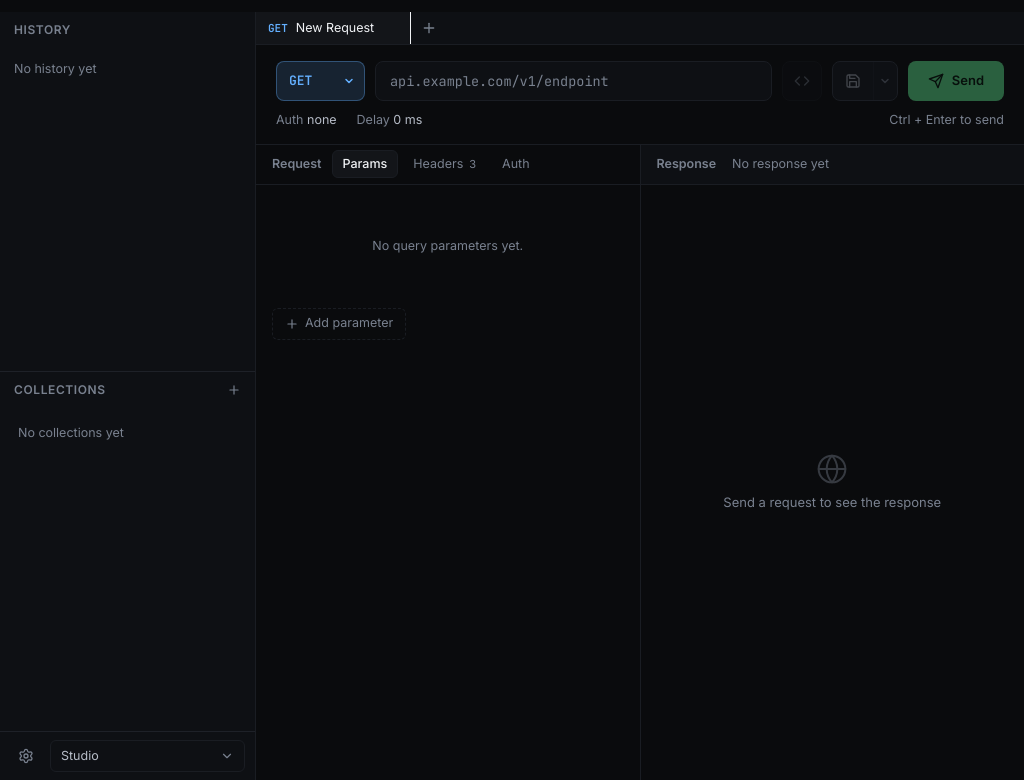
Scenario: composer menus › opens the Save request menu
Type "https://api.stripe.com/v1/charges" into the field named "Request URL" at (573, 81), box [390,71,757,91]
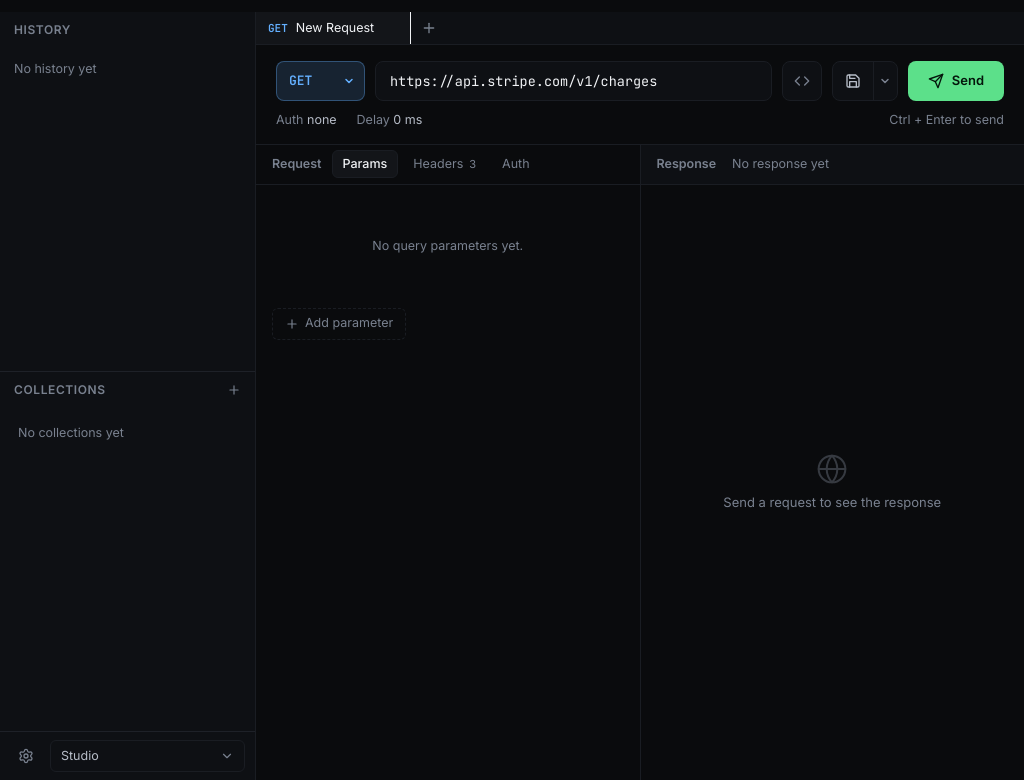
Click the button named "Save request" at (853, 81), box [833,62,873,100]
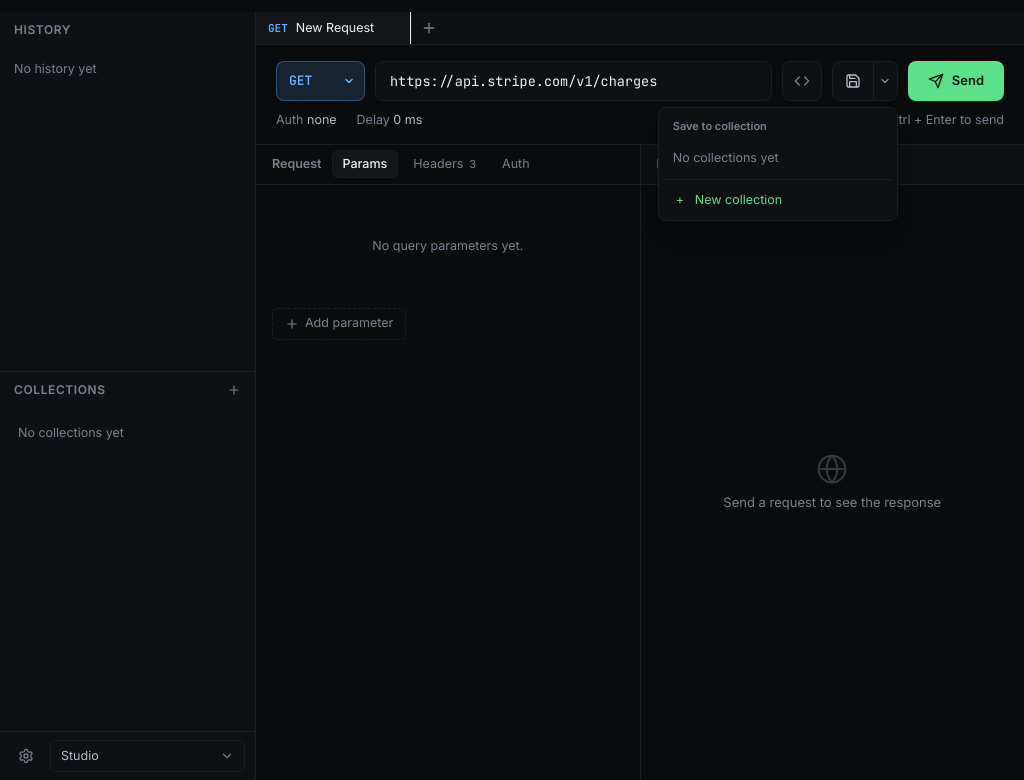
Expected: the text "Save to collection" is shown, [673,119,767,133]
Expected: the text "New collection" is shown, [695,191,782,210]
